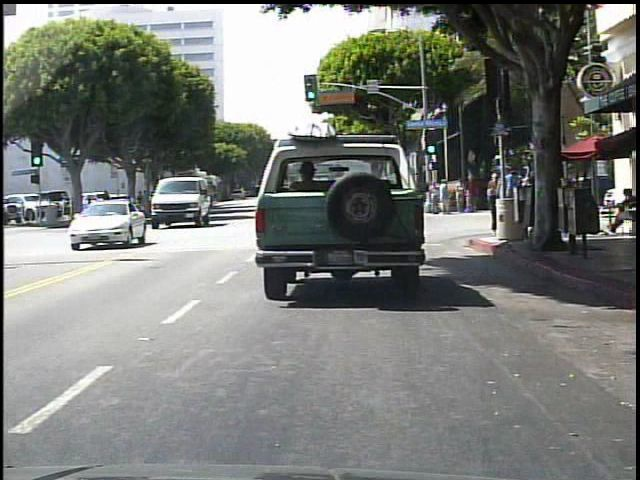person: (603, 184, 638, 235), (502, 165, 520, 235), (521, 171, 538, 227), (491, 170, 505, 233), (489, 171, 504, 221), (537, 173, 550, 219), (466, 170, 477, 211), (440, 177, 452, 214), (457, 177, 468, 211), (430, 182, 441, 214)
